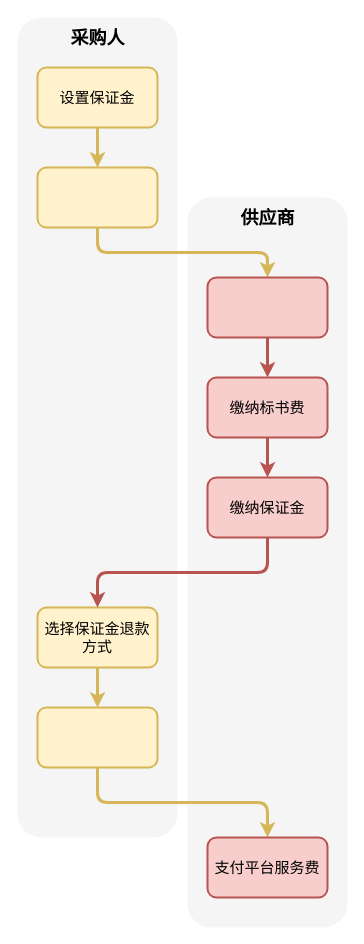
The diagram is 364 pixels wide and 944 high, and some of its shapes have lost their labels. Here are the shapes that lost their labels. From the top down, the centre of each, then its label:
the point at 97,197: 发布项目
the point at 267,307: 供应商报名
the point at 97,737: 发布中标结果
